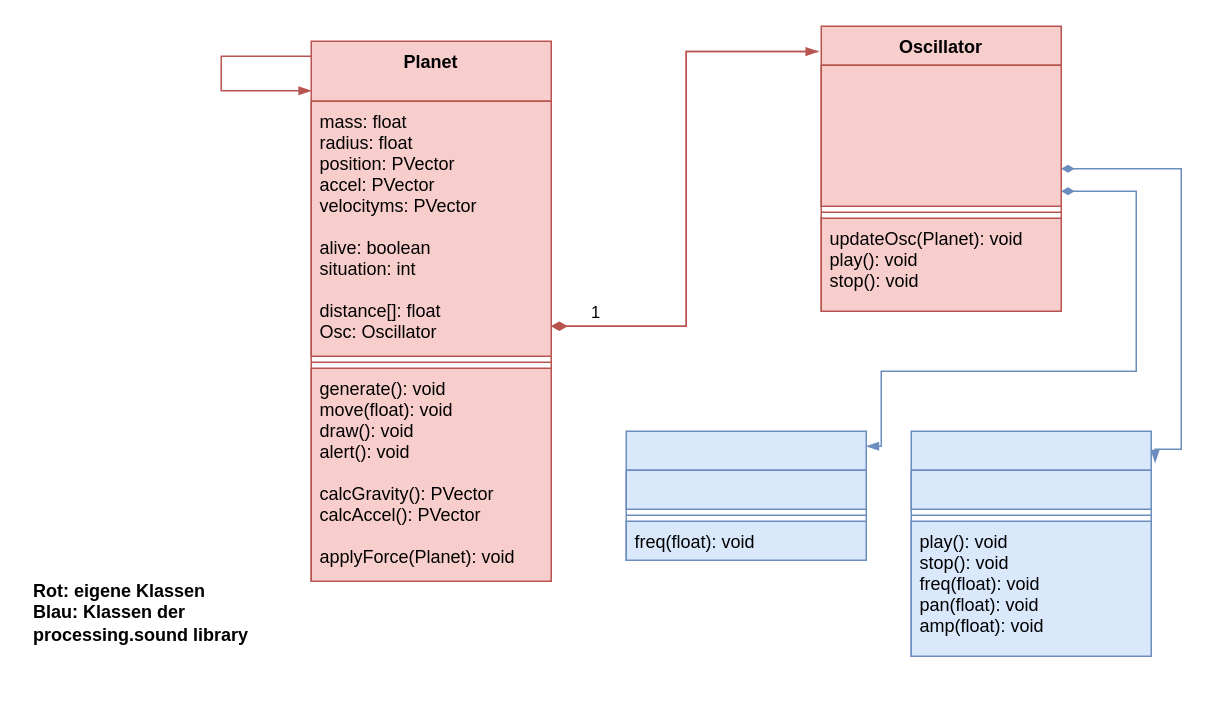
Image size: 1221x713. Some labels were removed from this diagram. The box of each missing label's shape, as (x1, y1, x2, y2) in pixels:
amp: float freq: float pan: float saw: SawOsc lowPass: LowPass: (820, 64, 1061, 206)
LowPass: (625, 430, 866, 560)
SawOsc: (910, 430, 1151, 656)
